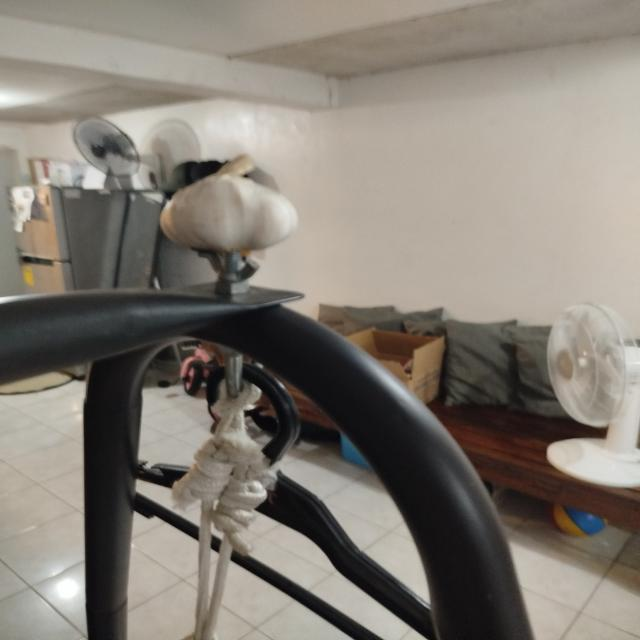garlic: (130, 138, 340, 256)
